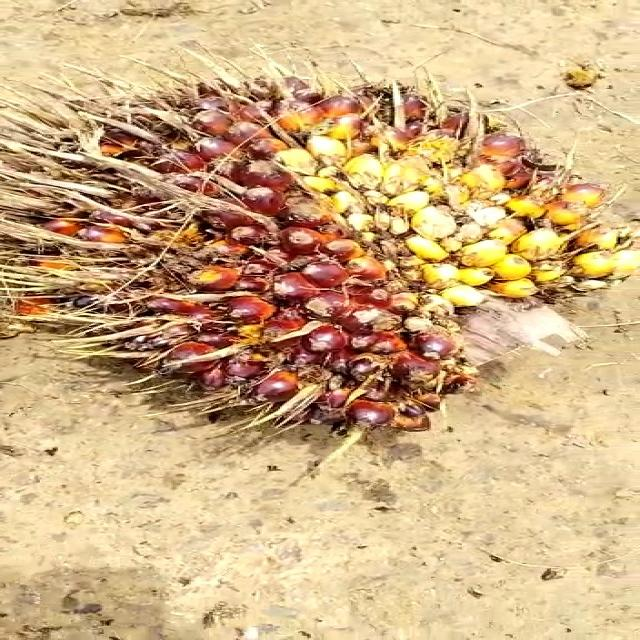palm oil: (0, 52, 640, 466)
